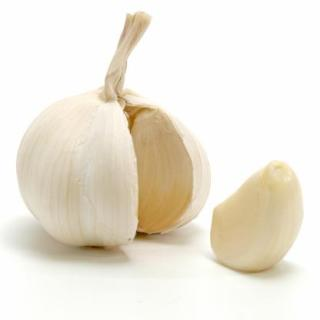Bawang Putih: (17, 12, 213, 248), (212, 160, 305, 274)
